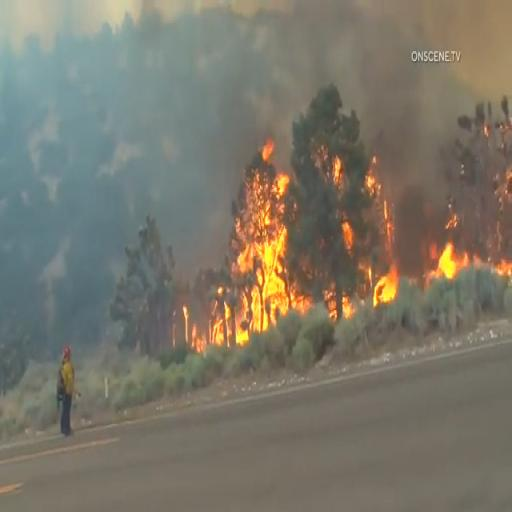fire: (234, 171, 288, 320), (373, 246, 413, 302), (432, 229, 460, 288)
smoke: (172, 5, 308, 110), (322, 2, 404, 130)
